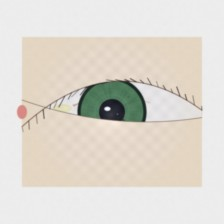pinguecula_lesion: (42, 92, 82, 124)
